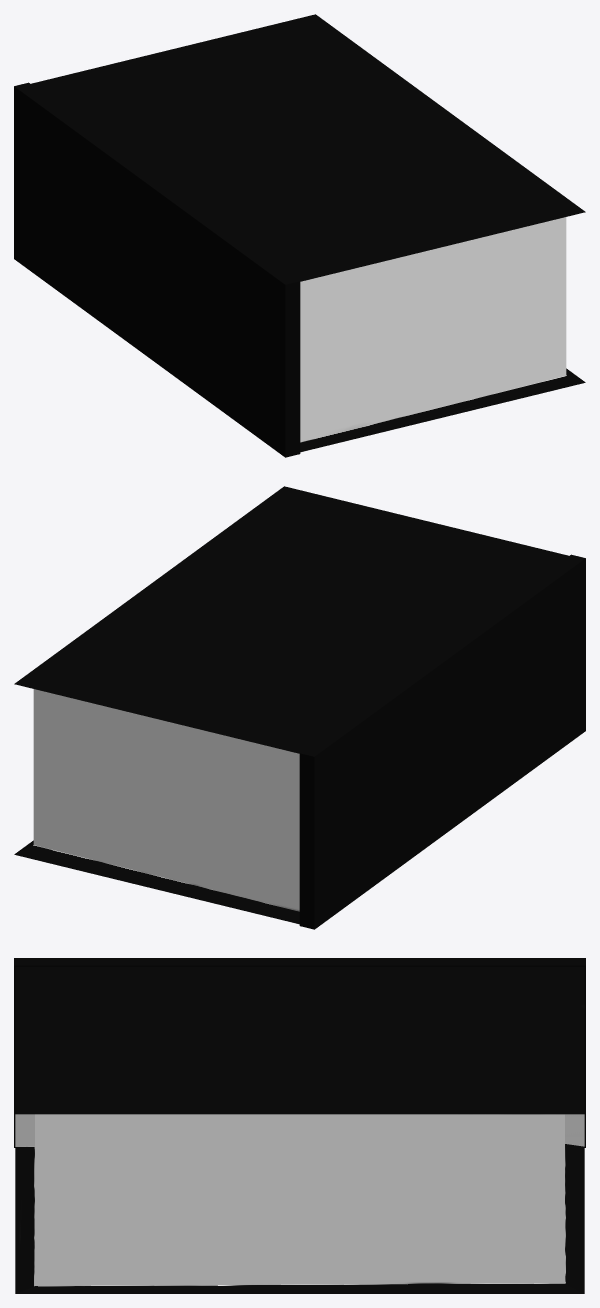
File: book2.glb
3 views of the same model, one above another, from view 1: azimuth 30°, elevation 25°; view 2: azimuth 150°, elevation 25°; view 3: azimuth 270°, elevation 25° (orthographic). The views are drawn at different scales.
Parts seen in each view (by area): view 1: Cube, Cube.001; view 2: Cube, Cube.001; view 3: Cube, Cube.001.
Part boxes in pixels (<box>): Cube: <box>31,14,585,452</box>; Cube.001: <box>14,82,300,457</box>; Cube: <box>14,486,568,924</box>; Cube.001: <box>299,554,585,929</box>; Cube: <box>15,967,584,1293</box>; Cube.001: <box>14,958,585,1147</box>.
Size of the model in its own units: 1.29 by 0.7055 by 2.01.
Materials: 2 (1 with a texture image).
